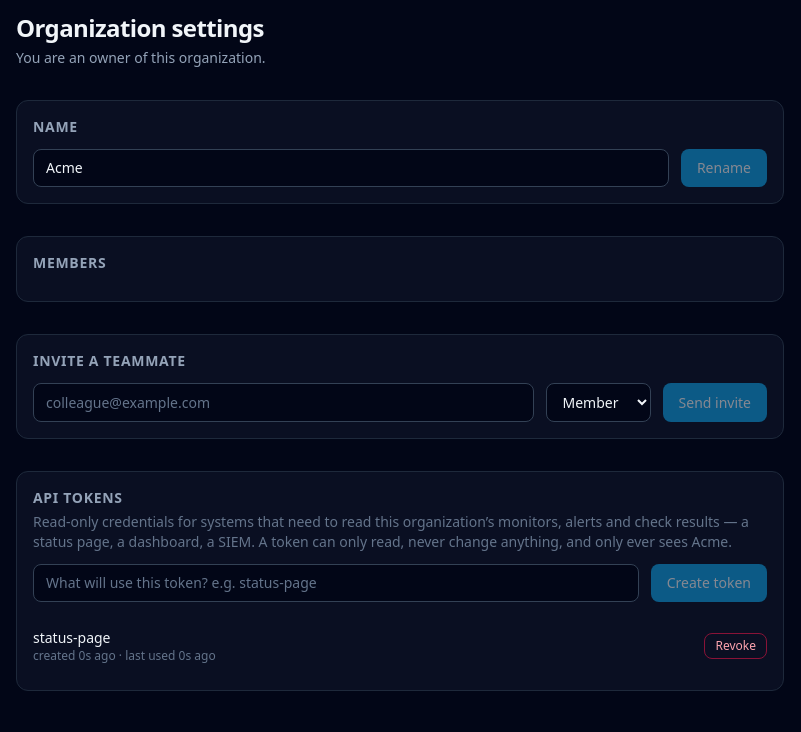
Test: OrgSettingsPage API tokens › creates a token and shows the plaintext once
Type "polaris" into the field with placeholder "What will use this token? e.g. status-page" at (336, 583), box [33,564,639,602]
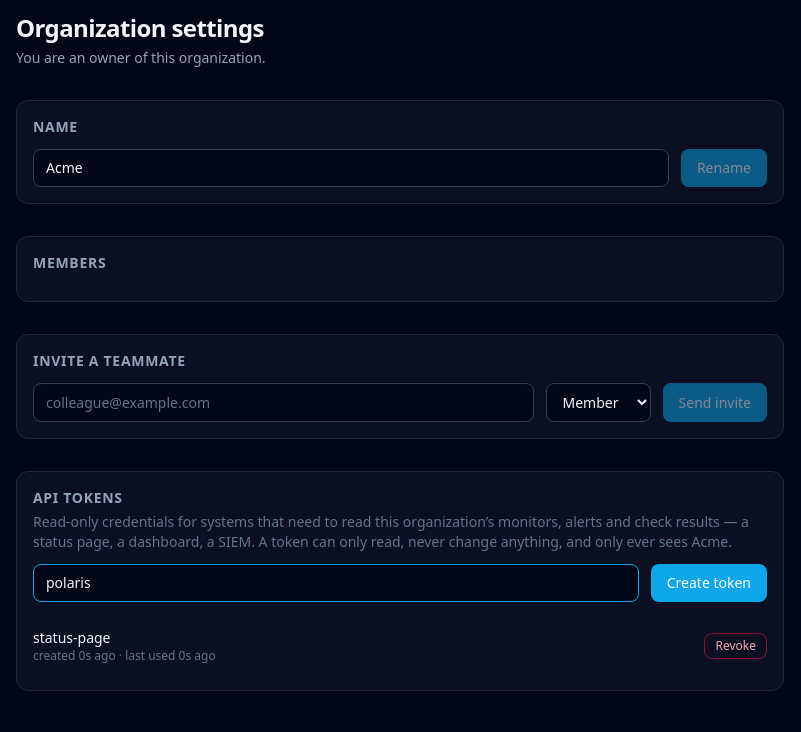
Click the button "Create token" at (709, 583), box [651,564,767,602]
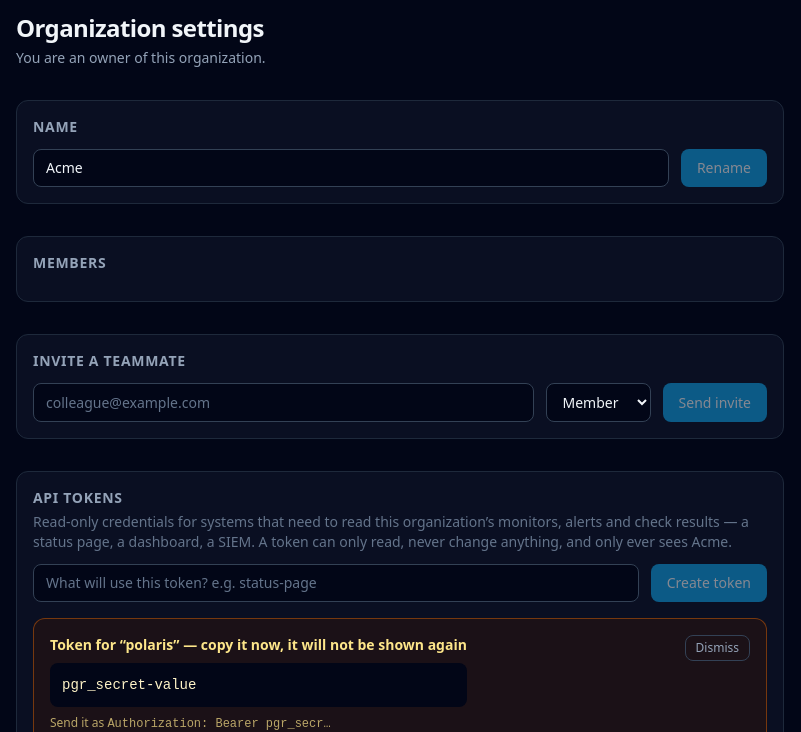
Now the text "pgr_secret-value" is shown, box [50,663,467,707]
# Dismissing clears it — the plaintext is not recoverable from the list.
Click the button "Dismiss" at (717, 648), box [685,635,750,661]
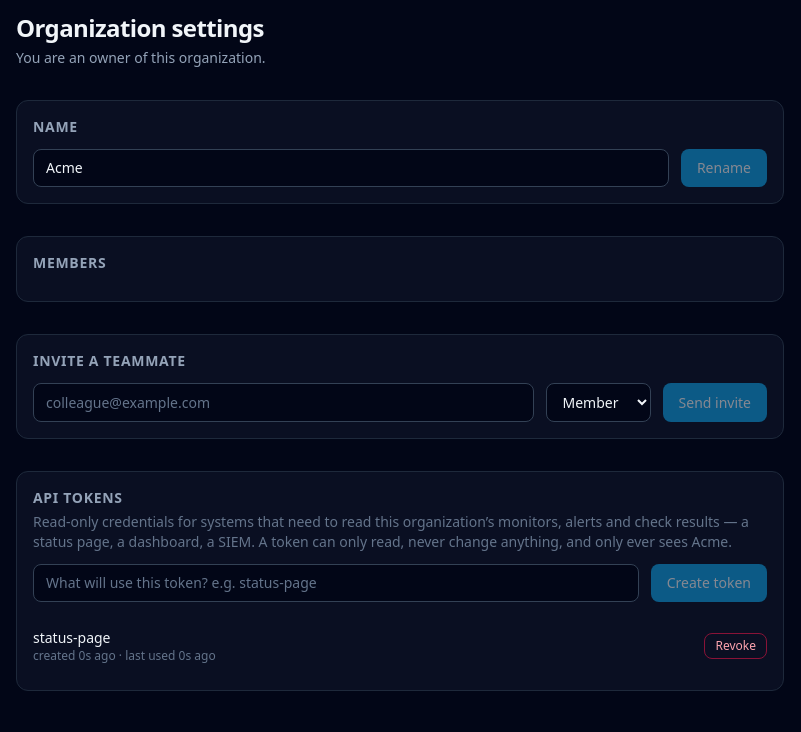
Now the text "pgr_secret-value" is gone
